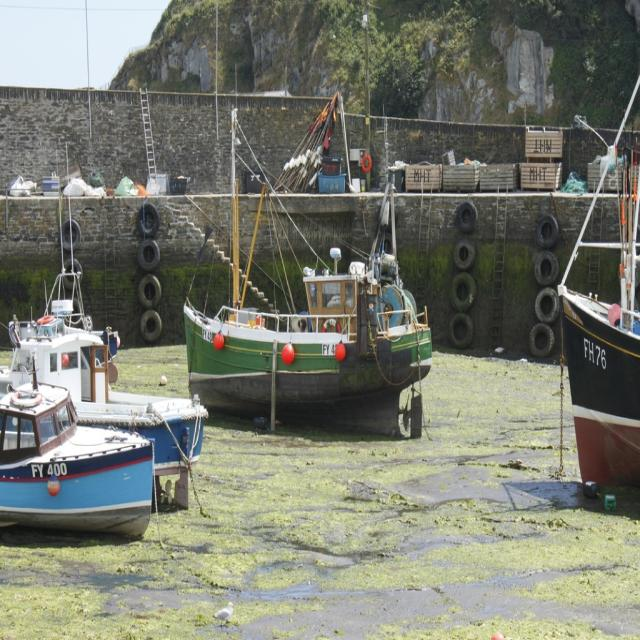Boat: (172, 103, 439, 413), (558, 71, 640, 508), (0, 349, 163, 544), (0, 145, 116, 380), (0, 381, 215, 480)
